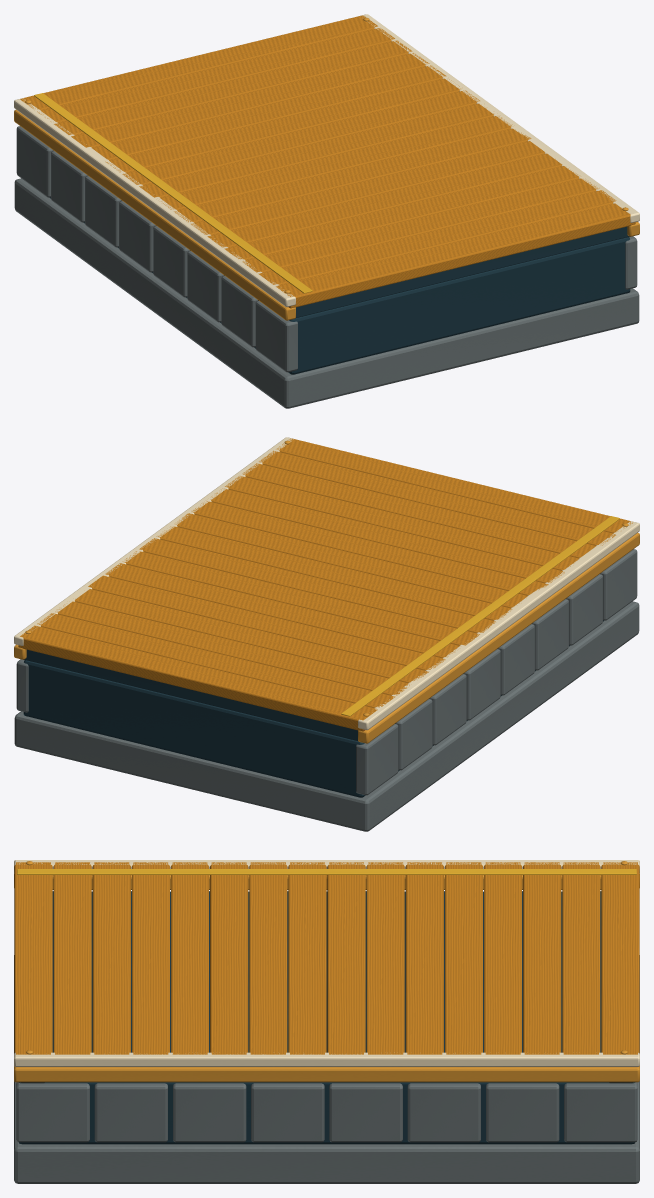
Rendered from Building_Station_Platform4m_001.glb.
The picture shows the model from 3 angles, top to bottom: view 1: azimuth 30°, elevation 25°; view 2: azimuth 150°, elevation 25°; view 3: azimuth 270°, elevation 25°; orthographic projection. The views are drawn at different scales.
Parts seen in each view (by area): view 1: Platform4m_Body; view 2: Platform4m_Body; view 3: Platform4m_Body.
Boxes of the visible parts, left/top/right/bottom form: Platform4m_Body: left=14, top=14, right=639, bottom=408; Platform4m_Body: left=14, top=437, right=639, bottom=831; Platform4m_Body: left=14, top=860, right=639, bottom=1183.
Bounding box in the file's own units: 3 × 0.9161 × 4.
1 material, 1 textured.
